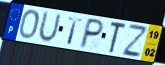O: (18, 9, 40, 41)
P: (78, 17, 106, 50)
T: (108, 22, 128, 55), (66, 16, 84, 46)
U: (36, 10, 63, 44)
Z: (121, 22, 148, 59)
